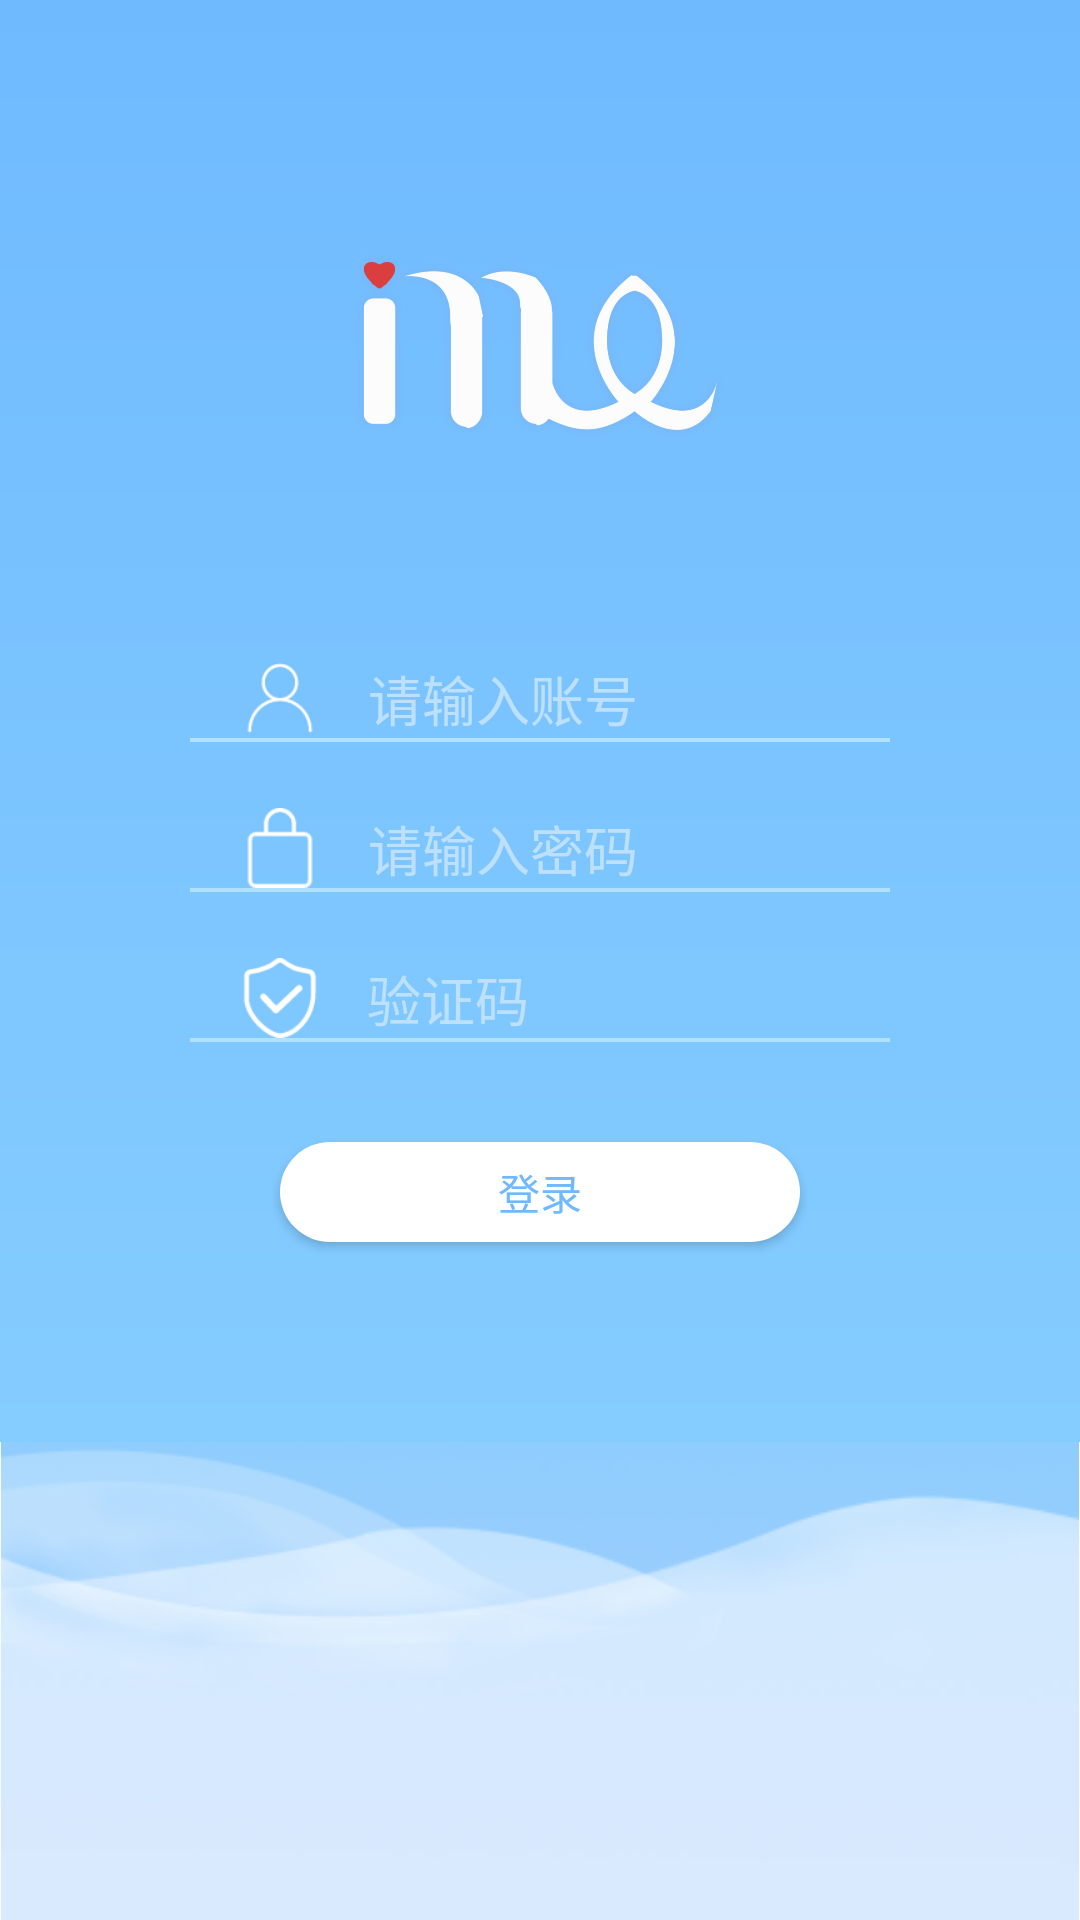

Named icons in this screenshot (1080*1920) and their bounding boxes, (x1, y1, x2, y2):
account: (247, 663, 313, 733)
code: (244, 958, 316, 1038)
password: (247, 808, 313, 888)
